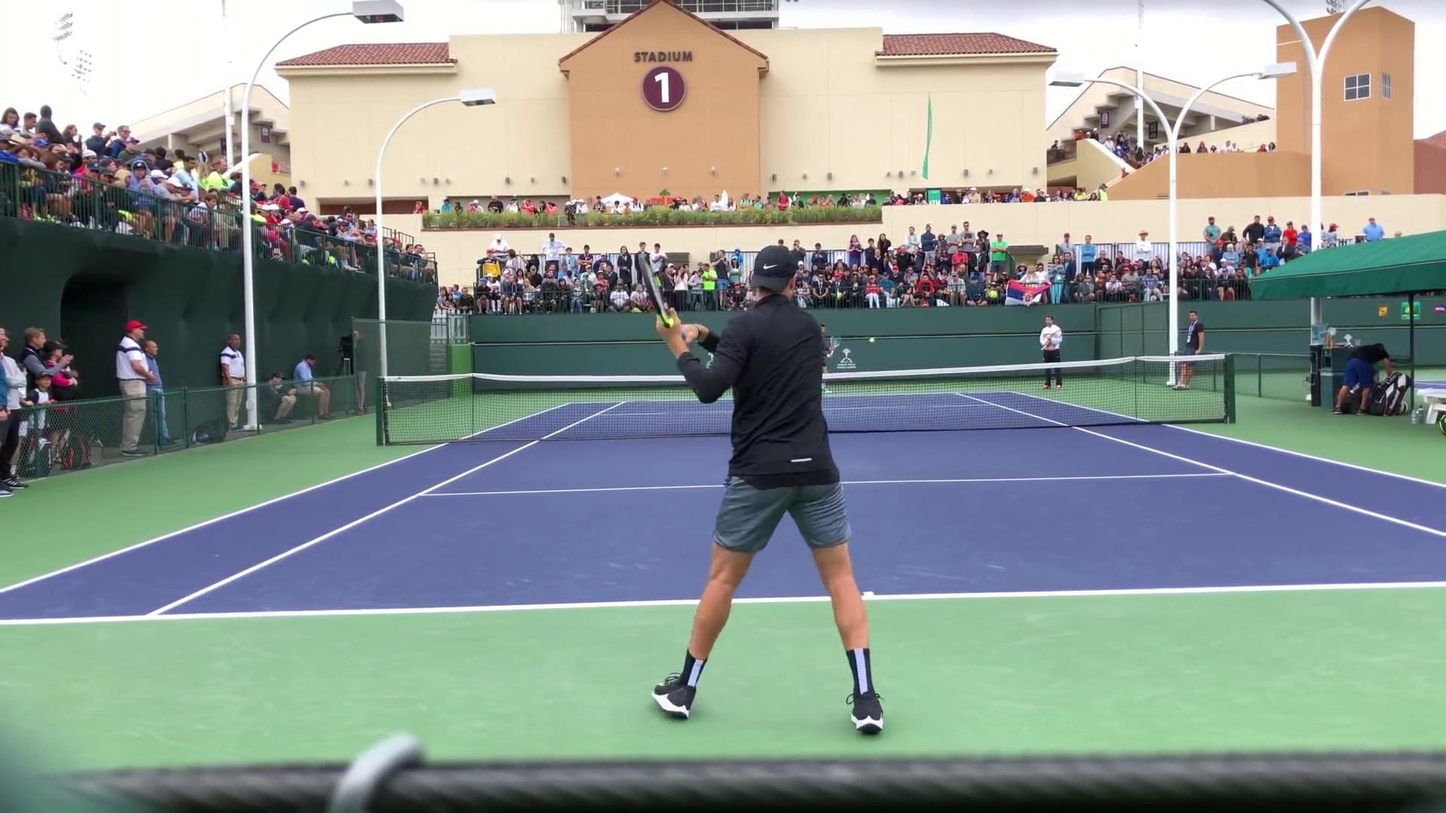ball: (868, 336, 875, 343)
